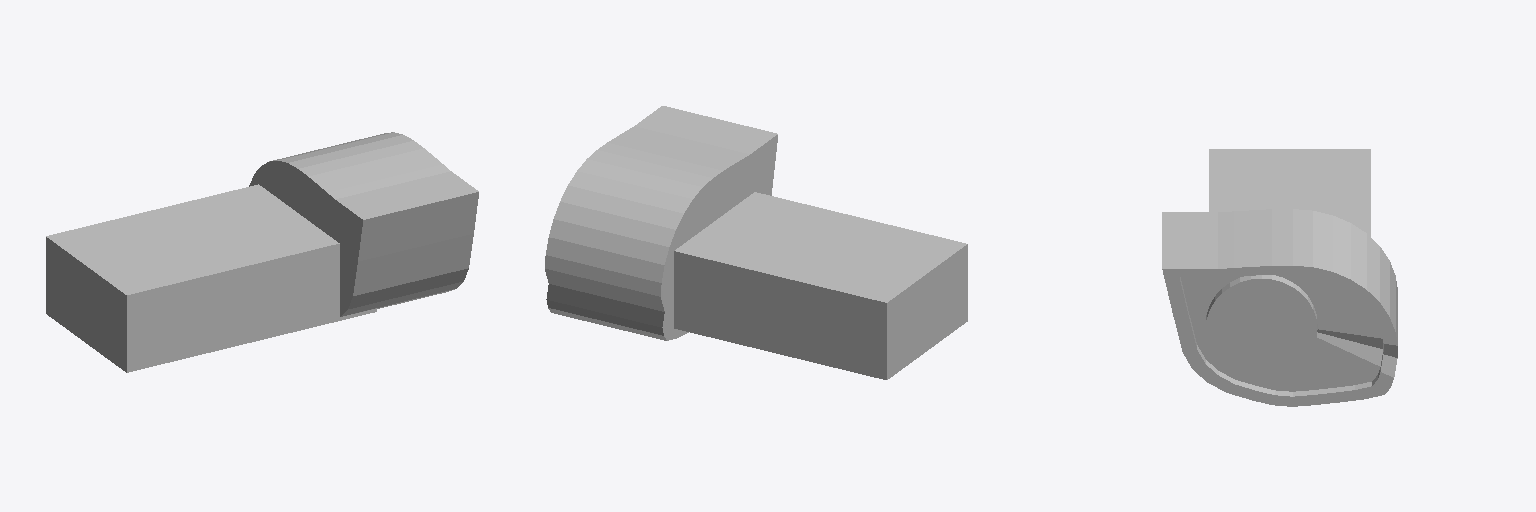
The model's file is eye.obj.
3 views of the same model, side by side, from view 1: azimuth 30°, elevation 25°; view 2: azimuth 150°, elevation 25°; view 3: azimuth 270°, elevation 25° (orthographic).
Parts seen in each view (by area): view 1: RightHead_Cube.009; view 2: RightHead_Cube.009; view 3: RightHead_Cube.009.
Boxes of the visible parts, box(x1,y1,x2,y2) form: RightHead_Cube.009: box(46, 132, 478, 372); RightHead_Cube.009: box(545, 106, 967, 379); RightHead_Cube.009: box(1162, 149, 1397, 406).
Size of the model in its own units: 1.15 by 0.4702 by 0.7107.